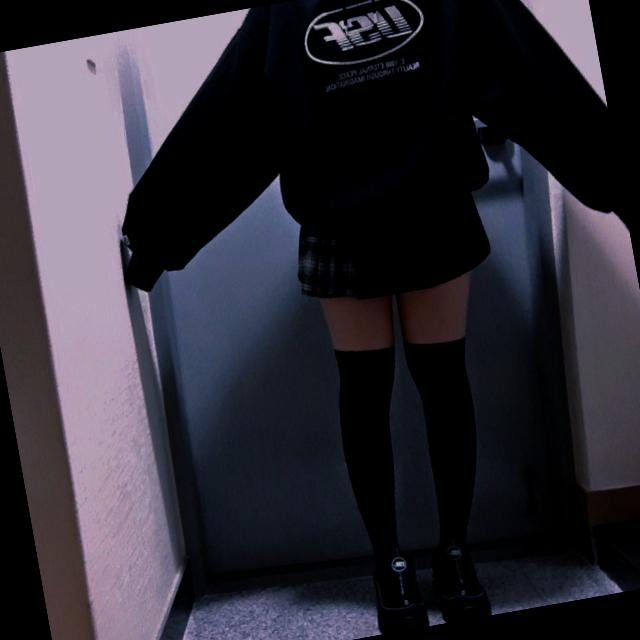hoodies: (91, 0, 625, 297)
skirt: (283, 182, 495, 316)
